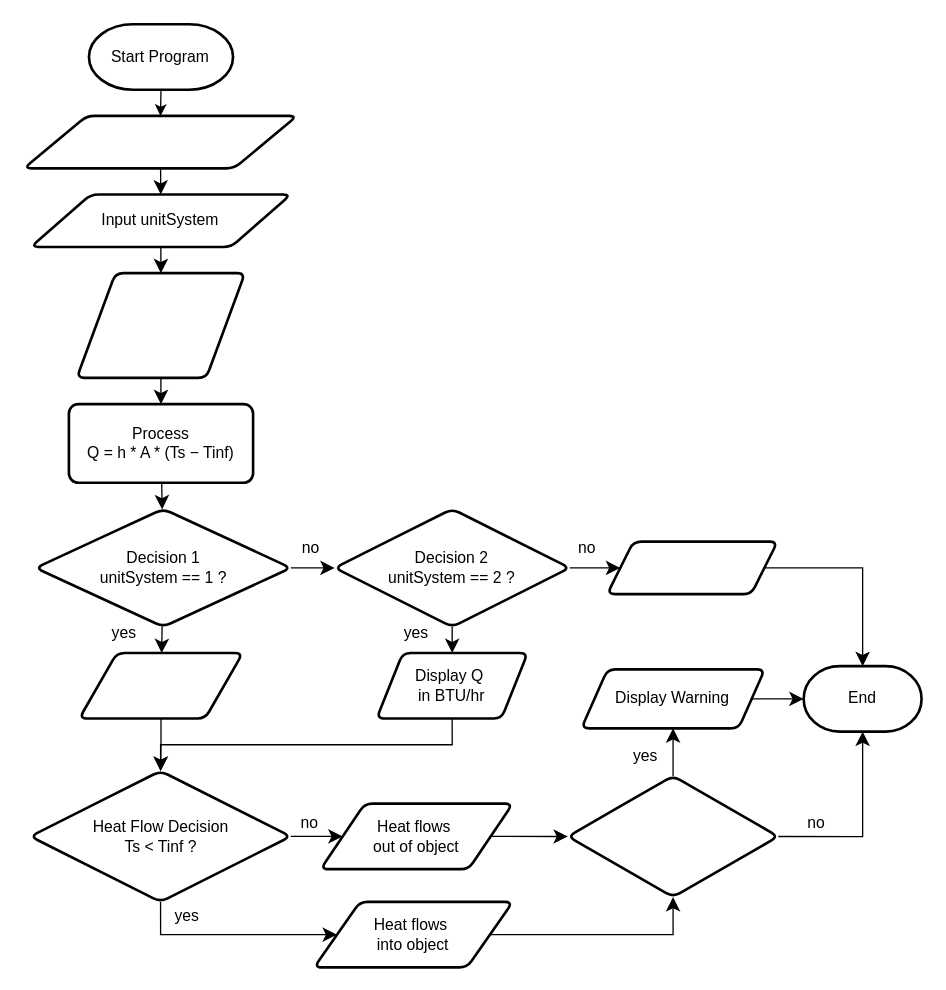
The diagram is 946 pixels wide and 990 high, and some of its shapes have lost their labels. The shapes that lost their labels are listed below. From the top down, each one's centre as x and y in pixels, then its label:
At point 160,141: "Display program title".
At point 160,325: "Input h Input A Input Ts Input Tinf".
At point 691,567: "Display Invalid Unit Selection".
At point 160,685: "Display Q in Watts".
At point 672,836: "Safety Decision |Q| > 10000".
